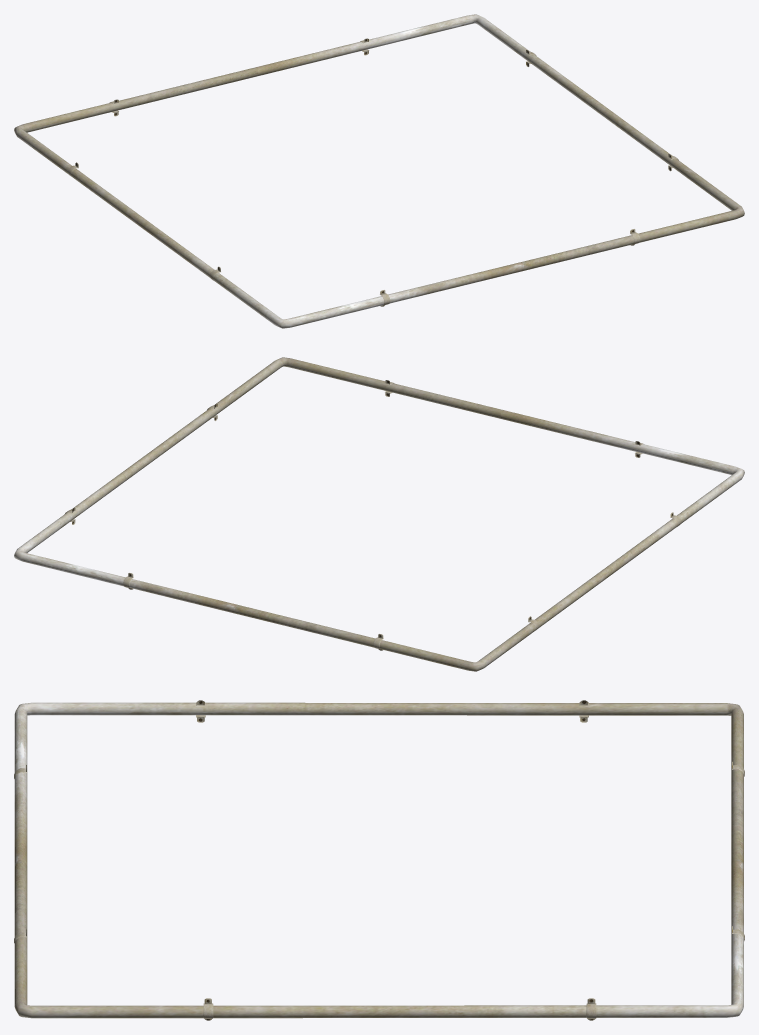
The model's file is Electric_Pipe_Pillar_A (1).fbx.
3 renders of one model, top to bottom at view 1: azimuth 30°, elevation 25°; view 2: azimuth 150°, elevation 25°; view 3: azimuth 270°, elevation 25°, orthographic. The views are drawn at different scales.
Parts seen in each view (by area): view 1: Electric_Pipe_Pillar_A; view 2: Electric_Pipe_Pillar_A; view 3: Electric_Pipe_Pillar_A.
Part boxes in pixels (left/top/right/bottom): Electric_Pipe_Pillar_A: left=14, top=14, right=744, bottom=328; Electric_Pipe_Pillar_A: left=14, top=357, right=744, bottom=671; Electric_Pipe_Pillar_A: left=14, top=700, right=744, bottom=1020.
Bounding box in the file's own units: 1.4 × 0.0468 × 1.4.
